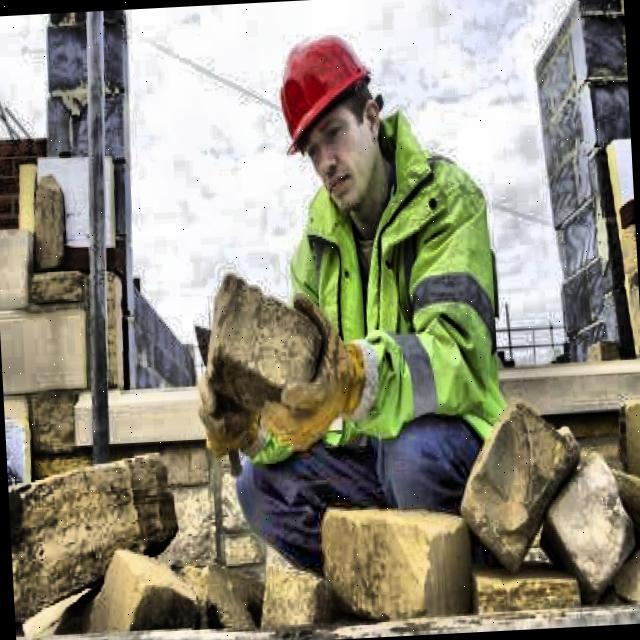helmet: (260, 8, 402, 228)
